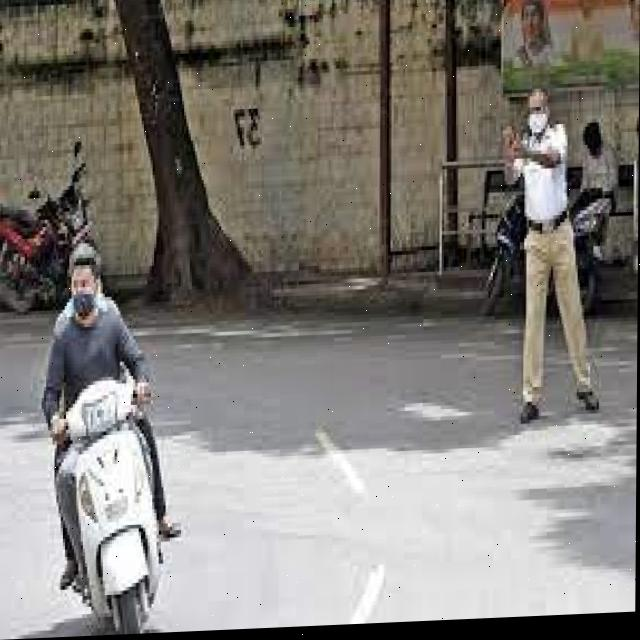without helmet: (65, 240, 102, 325)
